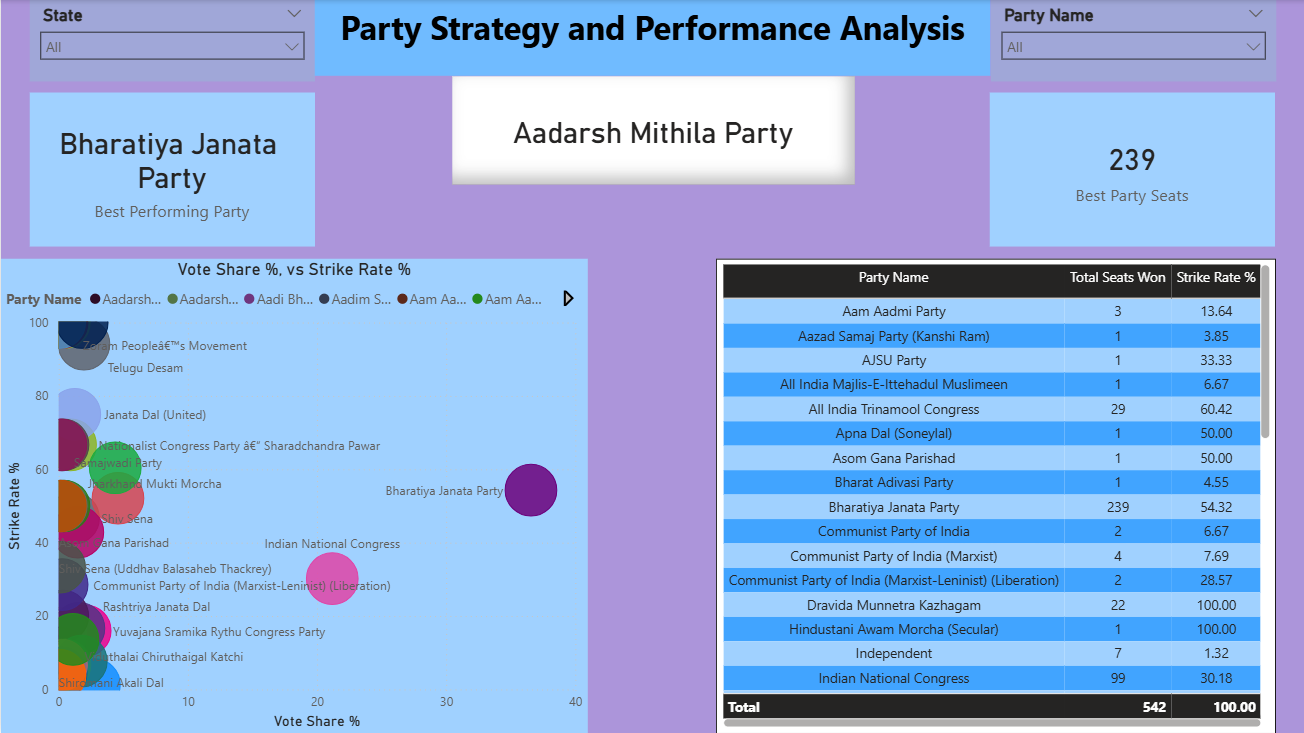

What the dashboard file says about the page in this screenshot:
{"tool":"powerbi","page":{"name":"Party Performance Analysis","canvas":[1280,720],"ordinal":2},"visuals":[{"type":"slicer","fields":{"Values":["final_election_result_data.State"]},"box":[28.2,0,279.8,79.8],"z":0},{"type":"textbox","box":[308.5,0,663,74.6],"z":1000},{"type":"slicer","fields":{"Values":["final_election_result_data.Party Name"]},"box":[971.5,0,279.9,79.6],"z":2000},{"type":"scatterChart","title":"Vote Share %, vs Strike Rate %","fields":{"X":["final_election_result_data.Vote Share %"],"Series":["final_election_result_data.Party Name"],"Y":["final_election_result_data.Strike Rate %"],"Size":["final_election_result_data.Total Seats Won1"]},"box":[0,253.8,576,466.5],"z":3000},{"type":"card","fields":{"Values":["Min(final_election_result_data.Party Name)"]},"box":[442.9,74.8,395.1,106.7],"z":4000},{"type":"tableEx","fields":{"Values":["final_election_result_data.Party Name","final_election_result_data.Total Seats Won","final_election_result_data.Strike Rate %"]},"box":[701.6,253.8,549.8,466.5],"z":5000},{"type":"card","fields":{"Values":["final_election_result_data.Best Performing Party"]},"box":[28.2,90.8,279.8,150.9],"z":6000},{"type":"card","fields":{"Values":["final_election_result_data.Best Party Seats"]},"box":[970.6,90.8,279.8,150.9],"z":7000}]}

Visuals, with their boxes in screenshot pixels (x1, y1, x2, y2), scaled from the page's 1280x720 canvas onto the 1304x733 screenshot:
slicer - final_election_result_data.State: <bbox>29, 0, 314, 81</bbox>
textbox: <bbox>314, 0, 990, 76</bbox>
slicer - final_election_result_data.Party Name: <bbox>990, 0, 1275, 81</bbox>
"Vote Share %, vs Strike Rate %" scatterChart: <bbox>0, 258, 587, 732</bbox>
card - Min(final_election_result_data.Party Name): <bbox>451, 76, 854, 185</bbox>
tableEx - final_election_result_data.Party Name x final_election_result_data.Total Seats Won: <bbox>715, 258, 1275, 732</bbox>
card - final_election_result_data.Best Performing Party: <bbox>29, 92, 314, 246</bbox>
card - final_election_result_data.Best Party Seats: <bbox>989, 92, 1274, 246</bbox>
